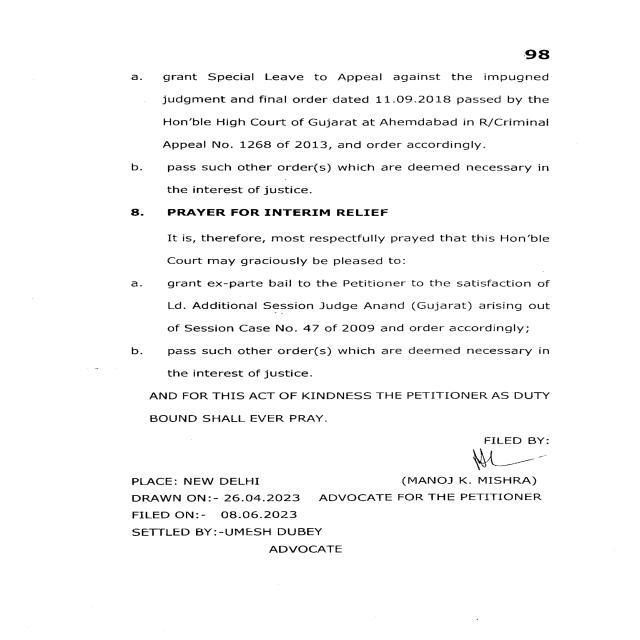page-number: (424, 1, 640, 66)
